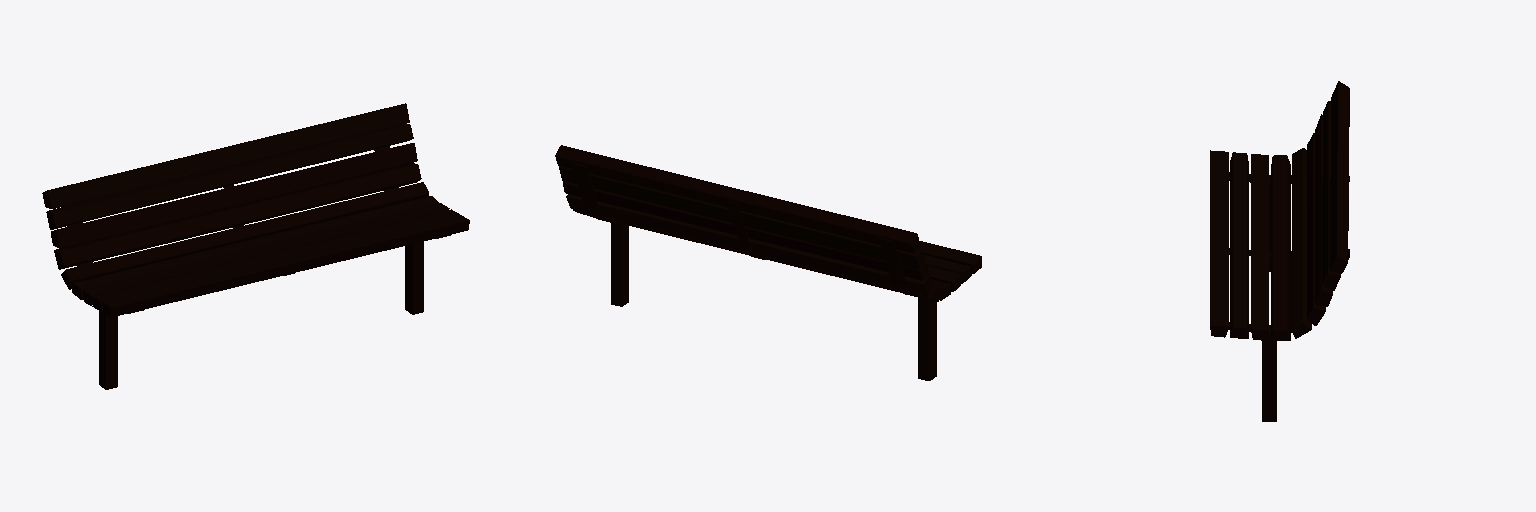
File: banca.obj
3 views of the same model, side by side, from view 1: azimuth 30°, elevation 25°; view 2: azimuth 150°, elevation 25°; view 3: azimuth 270°, elevation 25° (orthographic).
Visible parts, largest first — view 1: Wooden_Bench_Weathered_2; view 2: Wooden_Bench_Weathered_2; view 3: Wooden_Bench_Weathered_2.
Part boxes in pixels (bbox=[...]): Wooden_Bench_Weathered_2: bbox=[42, 103, 469, 389]; Wooden_Bench_Weathered_2: bbox=[555, 145, 981, 380]; Wooden_Bench_Weathered_2: bbox=[1210, 81, 1349, 421].
Size of the model in its own units: 2.15 by 1.01 by 0.7283.